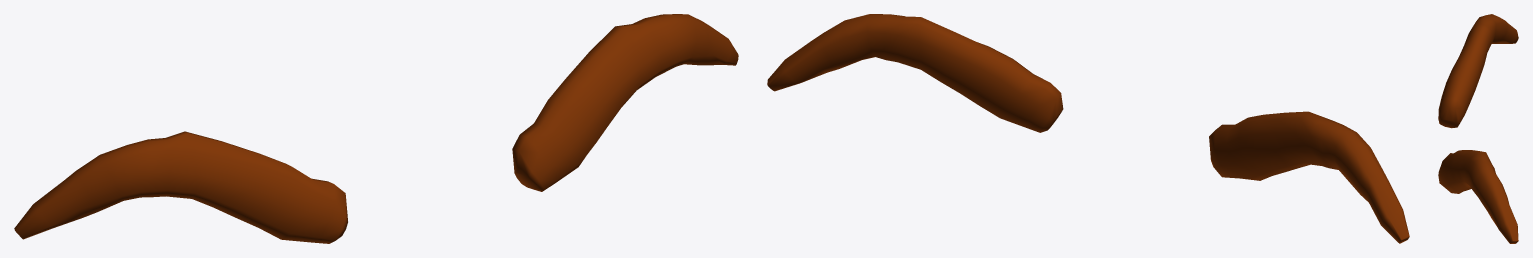
The model's file is Eyebrows_19_02.fbx.
3 renders of one model, left to right at view 1: azimuth 30°, elevation 25°; view 2: azimuth 150°, elevation 25°; view 3: azimuth 270°, elevation 25°, orthographic. The views are drawn at different scales.
Parts seen in each view (by area): view 1: Eyebrows_19_02; view 2: Eyebrows_19_02; view 3: Eyebrows_19_02.
Part boxes in pixels (x1,y1,x2,y2): Eyebrows_19_02: [14, 14, 738, 243]; Eyebrows_19_02: [767, 14, 1409, 243]; Eyebrows_19_02: [1438, 14, 1518, 243].
Bounding box in the file's own units: 18.29 × 2.86 × 3.02.
